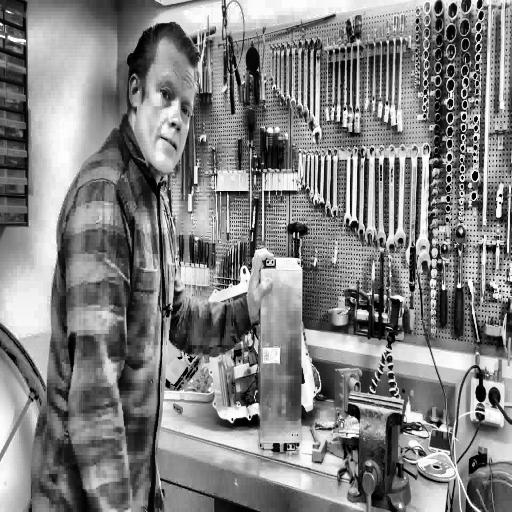battery_module: (260, 266, 302, 444)
